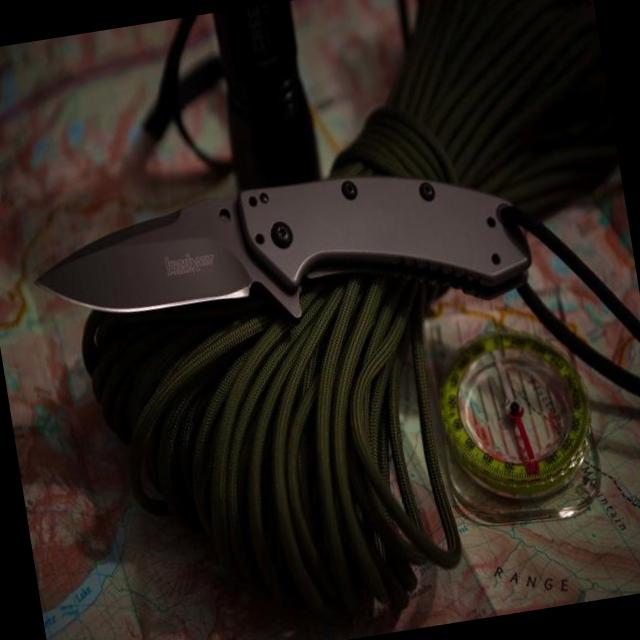Knife: (38, 177, 531, 317)
